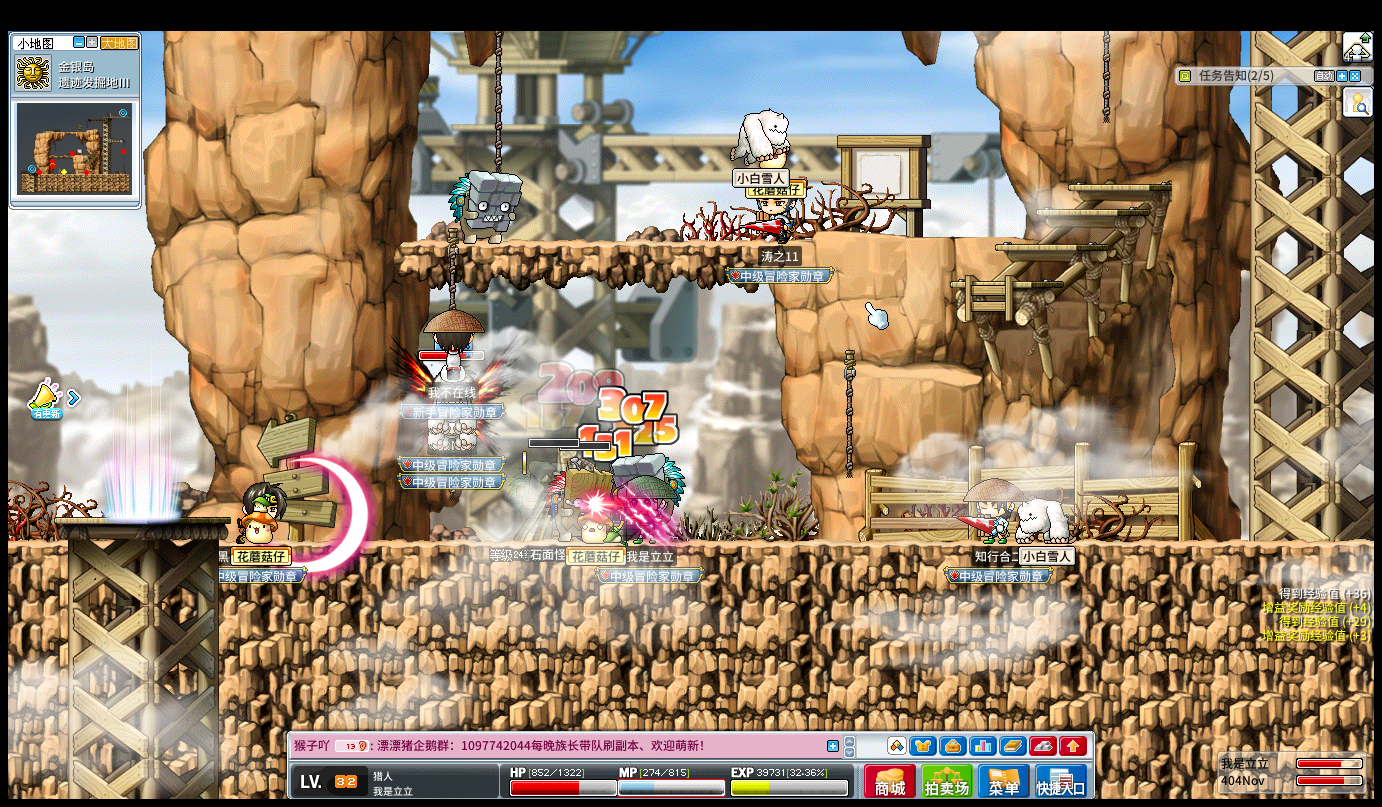floor: (220, 538, 1373, 551), (396, 238, 795, 255), (870, 360, 985, 388), (871, 234, 1037, 242), (54, 517, 231, 524), (1068, 183, 1170, 191), (994, 244, 1109, 251), (1036, 209, 1150, 216), (950, 281, 1063, 288), (7, 539, 68, 550)
monster: (544, 458, 612, 541), (448, 171, 523, 244), (612, 454, 686, 478)
rope: (844, 350, 854, 479), (494, 31, 503, 174), (448, 228, 457, 311), (1101, 31, 1109, 124)
